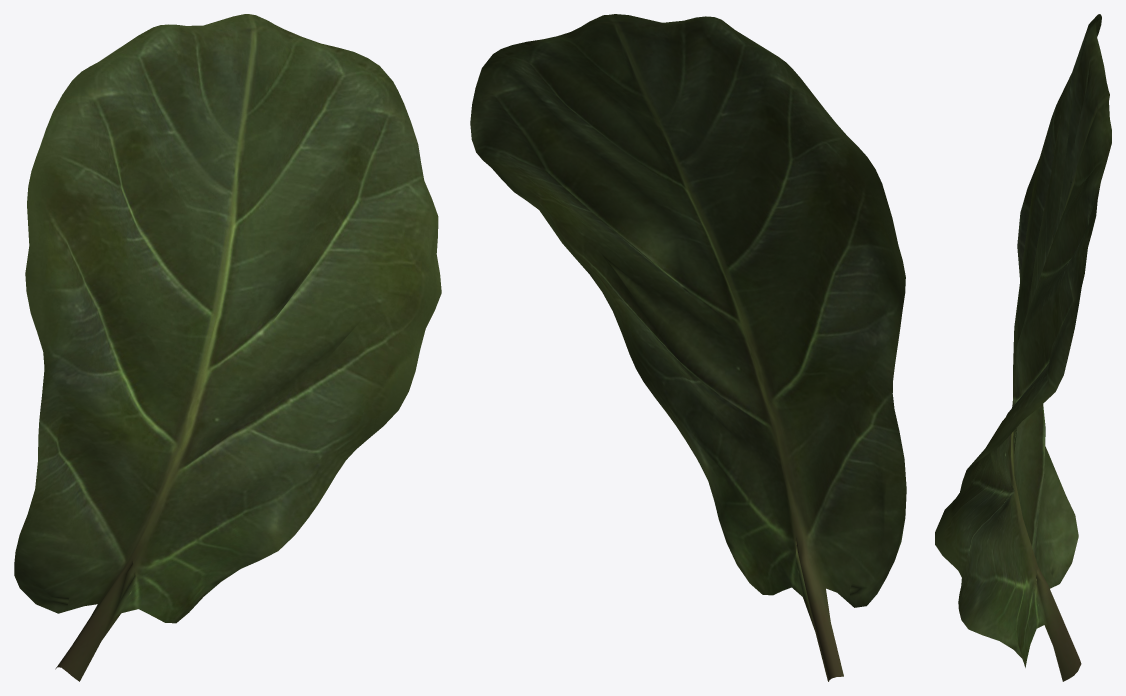
3 renders of one model, left to right at view 1: azimuth 30°, elevation 25°; view 2: azimuth 150°, elevation 25°; view 3: azimuth 270°, elevation 25°, orthographic. The views are drawn at different scales.
Visible parts, largest first — view 1: G-Plane209 68% 68% 68% 68%.018; view 2: G-Plane209 68% 68% 68% 68%.018; view 3: G-Plane209 68% 68% 68% 68%.018.
Part boxes in pixels (x1,y1,x2,y2): G-Plane209 68% 68% 68% 68%.018: (14,14,441,681); G-Plane209 68% 68% 68% 68%.018: (470,14,906,681); G-Plane209 68% 68% 68% 68%.018: (935,14,1111,681).
Bounding box in the file's own units: 0.9287 × 1.35 × 0.3049.
Materials: 1 (1 with a texture image).
